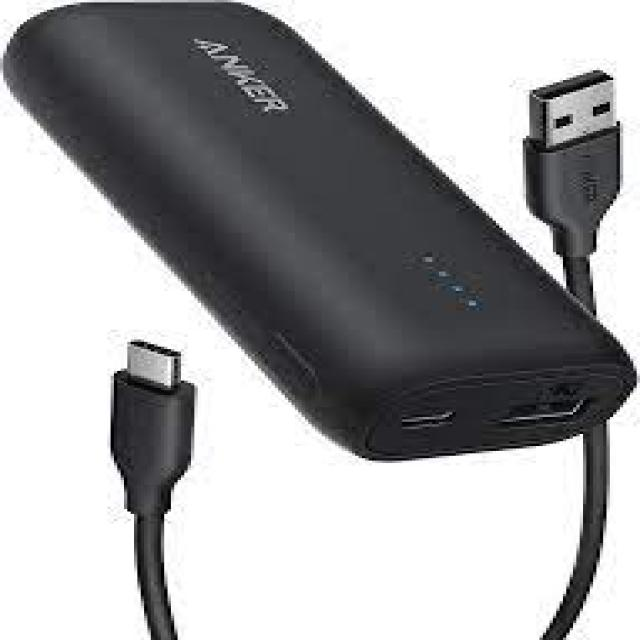power_bank: (0, 0, 640, 466)
